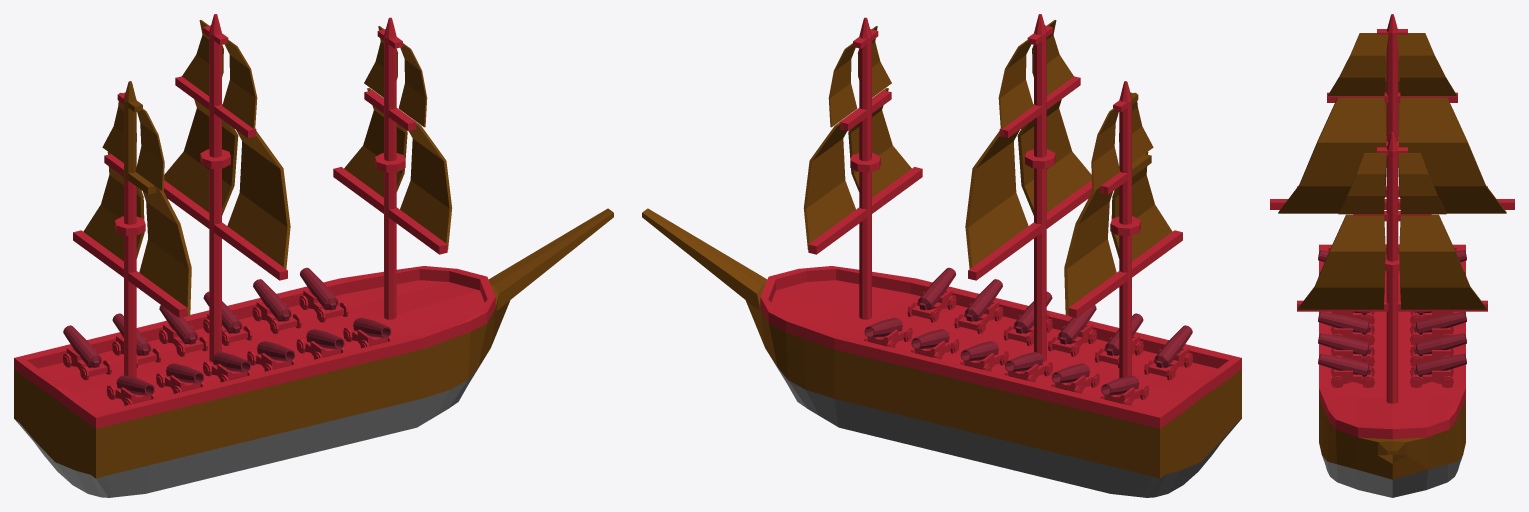
File: Ship_HMS_Unicorn_Frigate.obj
3 renders of one model, left to right at view 1: azimuth 30°, elevation 25°; view 2: azimuth 150°, elevation 25°; view 3: azimuth 270°, elevation 25°, orthographic. The views are drawn at different scales.
Visible parts, largest first — view 1: HMS-Unicorn; view 2: HMS-Unicorn; view 3: HMS-Unicorn.
Part boxes in pixels (<box>): HMS-Unicorn: <box>14,14,613,497</box>; HMS-Unicorn: <box>642,14,1241,497</box>; HMS-Unicorn: <box>1270,14,1514,497</box>.
Size of the model in its own units: 5.41 by 4.2 by 2.3.
